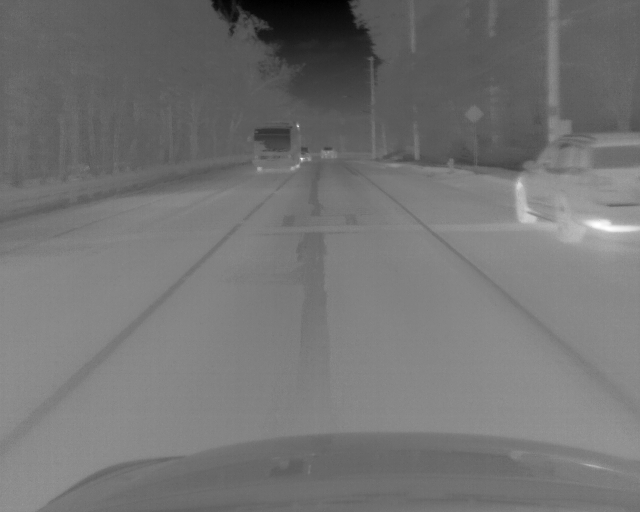car: (511, 131, 640, 245), (251, 121, 300, 172), (318, 146, 338, 161), (300, 147, 310, 162)
